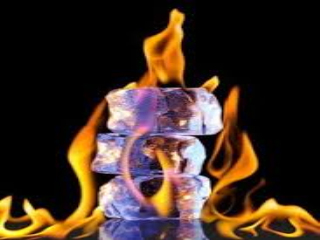fire: (220, 88, 312, 240), (5, 88, 100, 235), (128, 9, 196, 82), (124, 134, 180, 218)
